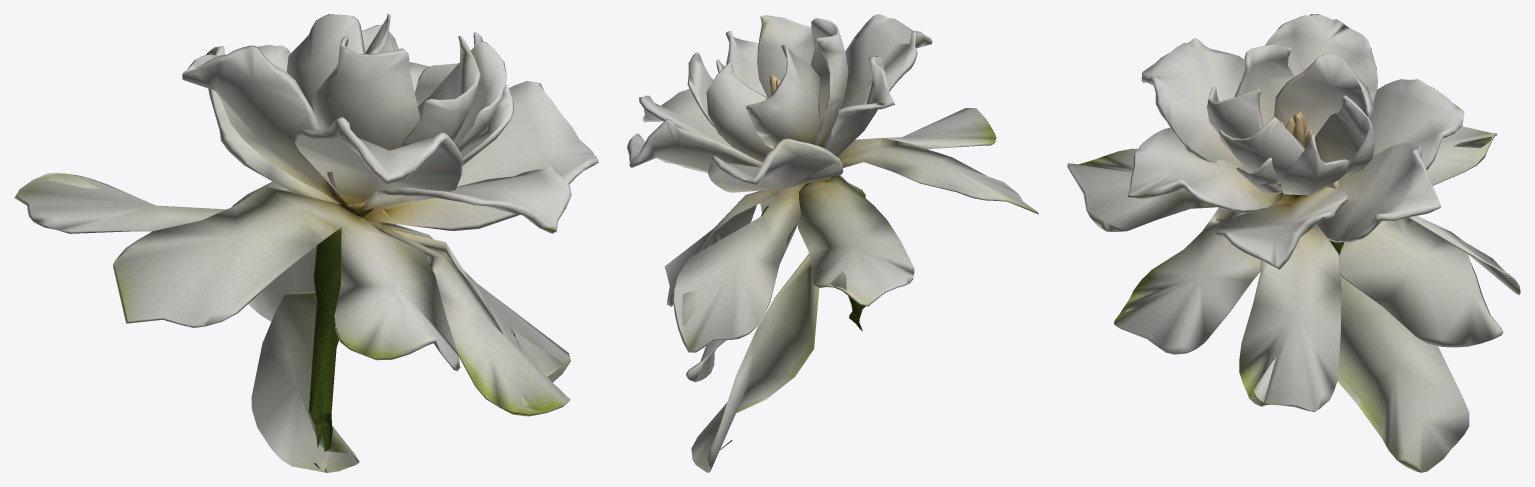
File: flower_white.glb
3 views of the same model, side by side, from view 1: azimuth 30°, elevation 25°; view 2: azimuth 150°, elevation 25°; view 3: azimuth 270°, elevation 25° (orthographic). The views are drawn at different scales.
Parts seen in each view (by area): view 1: tripo_node_f6afffec-2067-4a5b-84e7-84ac2f4766cf; view 2: tripo_node_f6afffec-2067-4a5b-84e7-84ac2f4766cf; view 3: tripo_node_f6afffec-2067-4a5b-84e7-84ac2f4766cf.
Part boxes in pixels (x1=…): tripo_node_f6afffec-2067-4a5b-84e7-84ac2f4766cf: x1=14, y1=14, x2=598, y2=472; tripo_node_f6afffec-2067-4a5b-84e7-84ac2f4766cf: x1=627, y1=14, x2=1038, y2=472; tripo_node_f6afffec-2067-4a5b-84e7-84ac2f4766cf: x1=1067, y1=14, x2=1520, y2=472.
Bounding box in the file's own units: 0.6101 × 0.6112 × 0.6295.
1 material, 1 textured.
